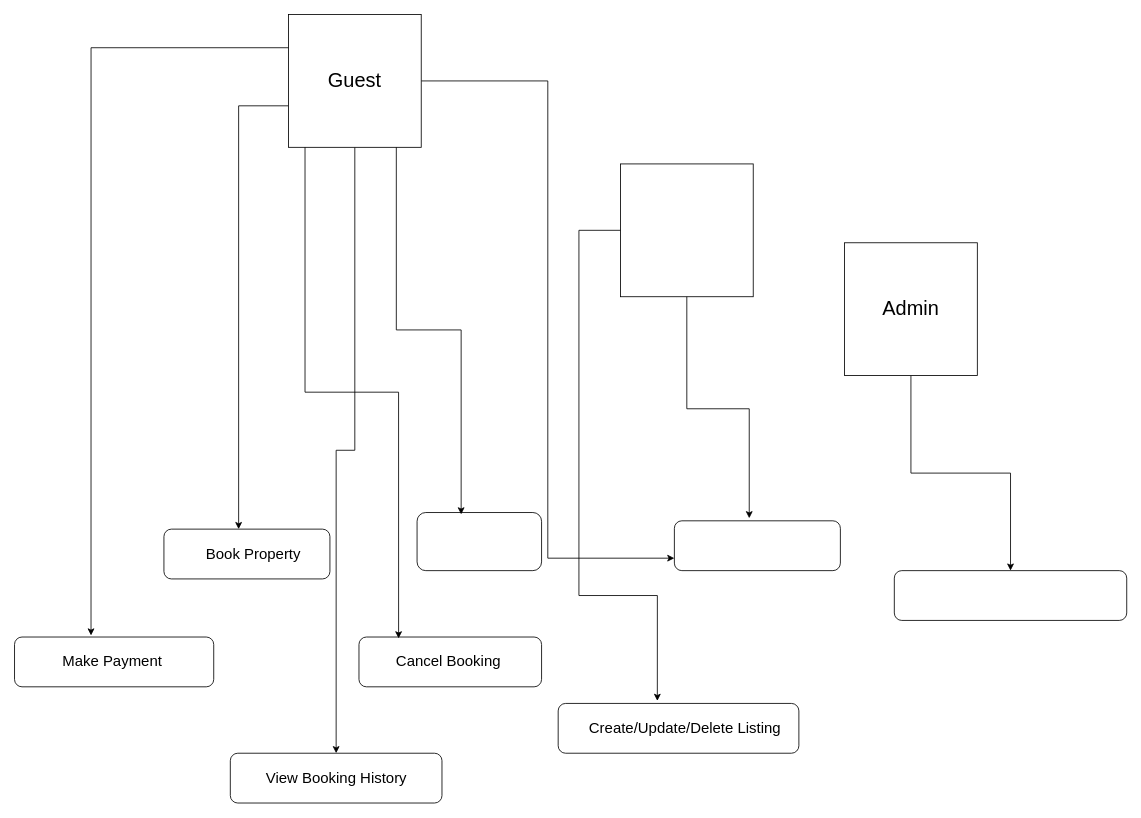
Image size: 1141x818. Some labels were removed from this diagram. Each missing label, with the centre of its shape:
Host: pixel 686 230
Moderate Listings (optional): pixel 1010 595
Register/Login: pixel 757 545
View Listings: pixel 479 541
